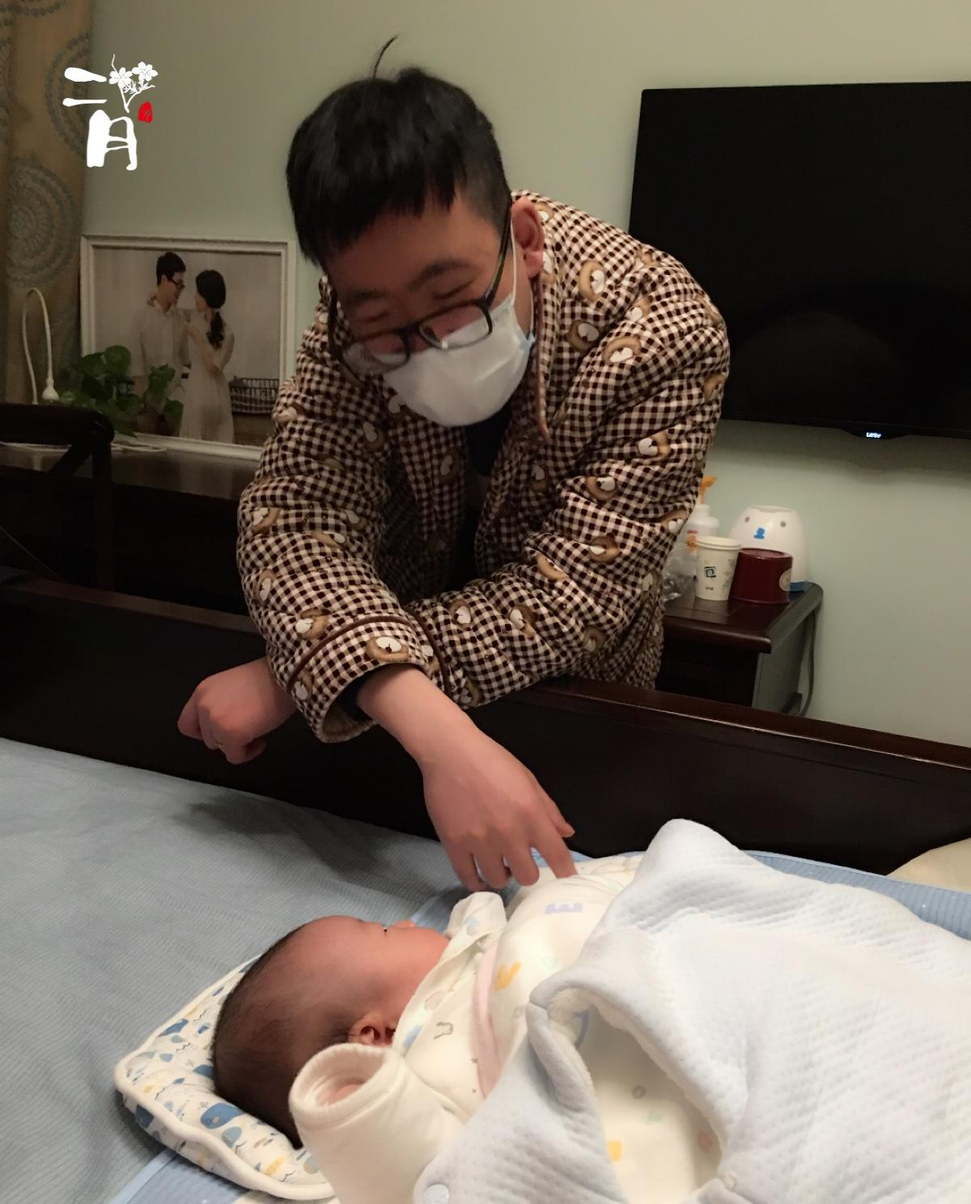NONE: (318, 911, 484, 1043), (159, 270, 184, 305), (194, 289, 211, 312)
WRONG: (335, 241, 524, 430)
